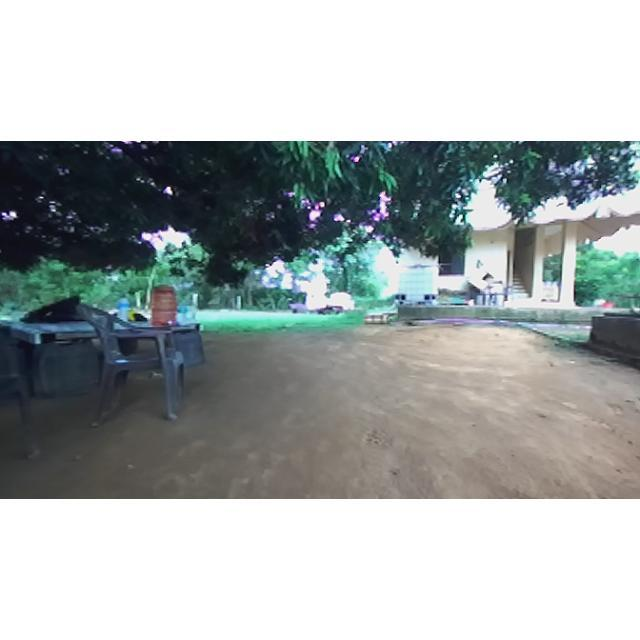direk: (2, 141, 640, 273), (126, 234, 174, 314)
